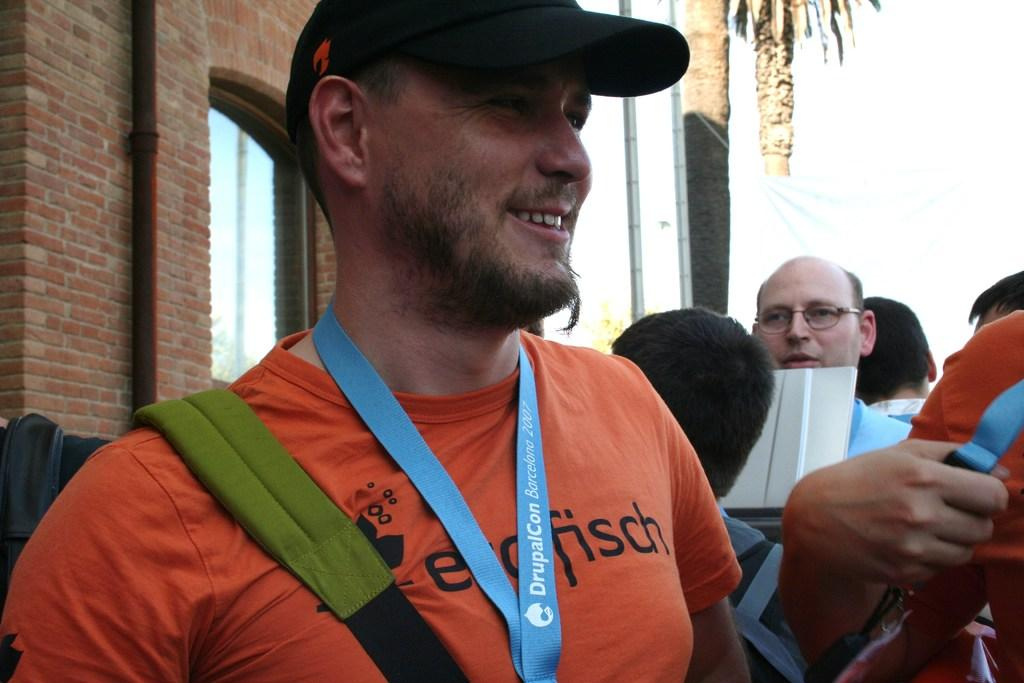Hat: (284, 0, 692, 153)
